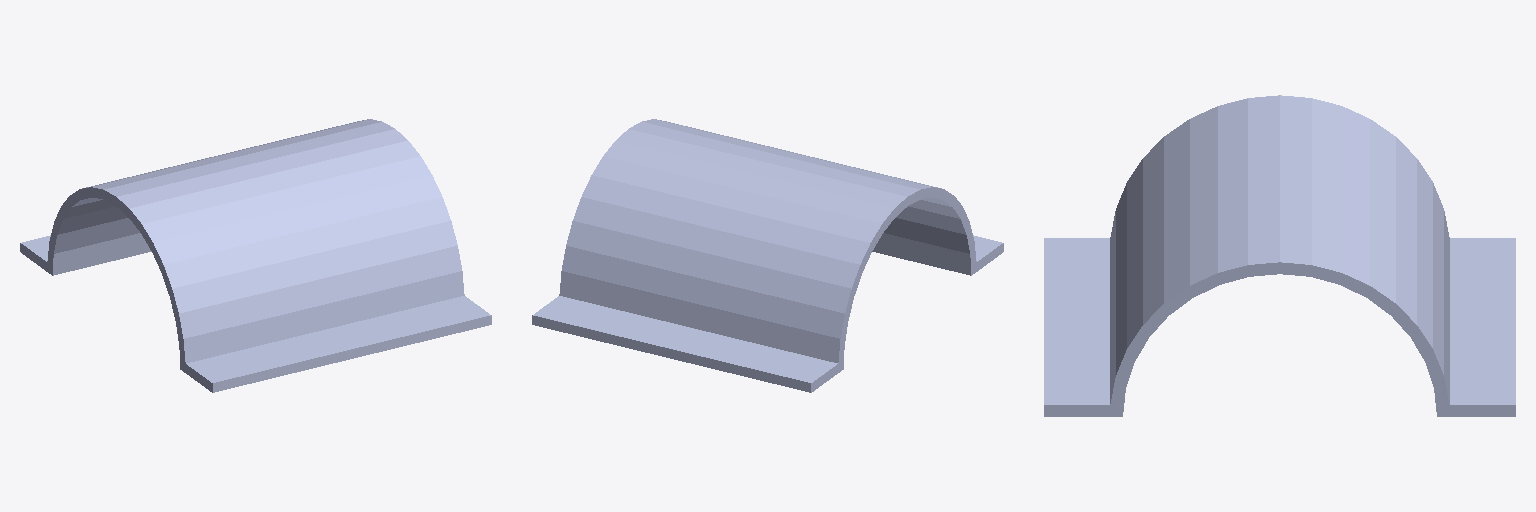
The robot description file, URDF, robot "surface_cfrp":
<?xml version="1.0" encoding="utf-8"?>
<!-- This URDF was automatically created by SolidWorks to URDF Exporter! Originally created by [author] ([email redacted]) 
     Commit Version: 1.5.1-0-g916b5db  Build Version: 1.5.7152.31018
     For more information, please see http://wiki.ros.org/sw_urdf_exporter -->
<robot
  name="surface_cfrp">
  <link
    name="surface_cfrp">
    <inertial>
      <origin
        xyz="-1.1374E-17 4.5609E-17 0.032193"
        rpy="0 0 0" />
      <mass
        value="0.18618" />
      <inertia
        ixx="0.00061682"
        ixy="-1.2438E-20"
        ixz="2.3098E-19"
        iyy="0.00045111"
        iyz="-6.0331E-19"
        izz="0.00087324" />
    </inertial>
    <visual>
      <origin
        xyz="0 0 0"
        rpy="0 0 0" />
      <geometry>
        <mesh
          filename="package://surface_cfrp/meshes/surface_cfrp.STL" />
      </geometry>
      <material
        name="">
        <color
          rgba="0.79216 0.81961 0.93333 1" />
        <texture
          filename="package://surface_cfrp/textures/" />
      </material>
    </visual>
    <collision>
      <origin
        xyz="0 0 0"
        rpy="0 0 0" />
      <geometry>
        <mesh
          filename="package://surface_cfrp/meshes/surface_cfrp.STL" />
      </geometry>
    </collision>
  </link>
</robot>

--- Render facts (derived) ---
The picture shows the robot from 3 angles, left to right: view 1: azimuth 30°, elevation 25°; view 2: azimuth 150°, elevation 25°; view 3: azimuth 270°, elevation 25°; orthographic projection.
Robot: surface_cfrp — 1 links, 0 joints (none); root link surface_cfrp; default pose: every joint at zero.
Visible links, largest first — view 1: surface_cfrp; view 2: surface_cfrp; view 3: surface_cfrp.
Boxes of the visible links, left/top/right/bottom form: surface_cfrp: left=20, top=119, right=491, bottom=392; surface_cfrp: left=532, top=119, right=1003, bottom=392; surface_cfrp: left=1044, top=95, right=1515, bottom=416.
Size in the robot's own frame: 0.151 by 0.18 by 0.0651 metres.
Meshes: 1 distinct files referenced, 1 mesh visuals loaded (1 binary STL).